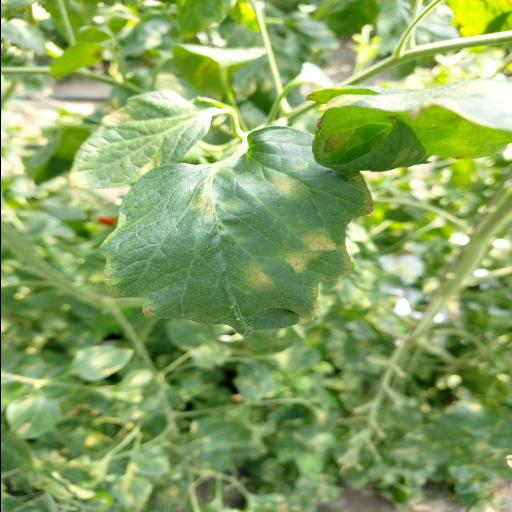Leaf Mold: (94, 125, 376, 337), (66, 91, 214, 189)
